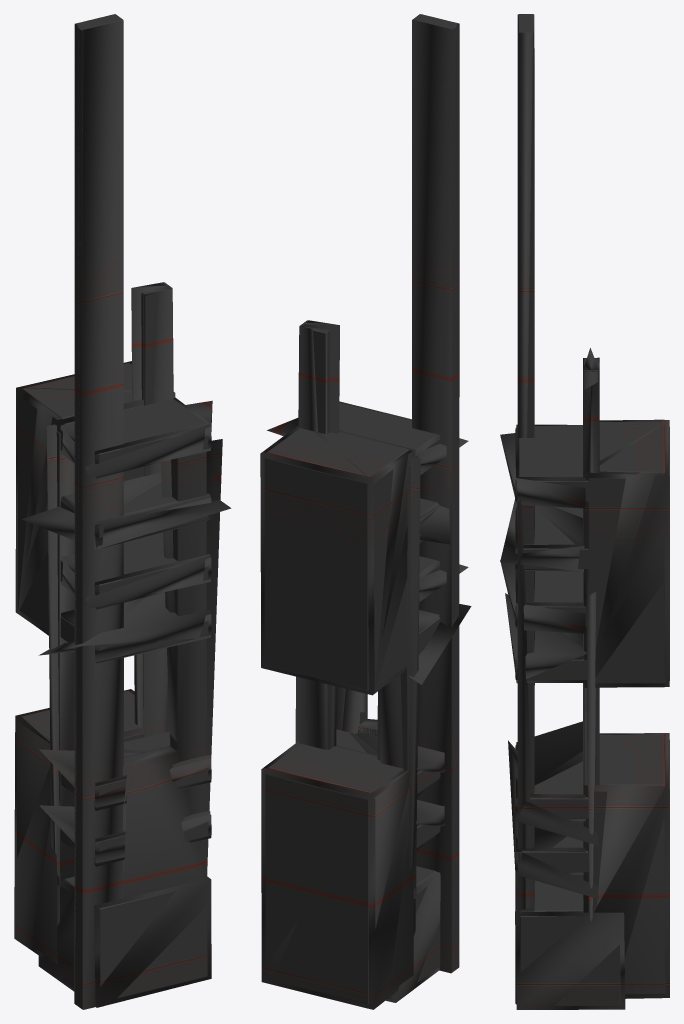
The model's file is sm_skyscraper_module13.glb.
The picture shows the model from 3 angles, left to right: view 1: azimuth 30°, elevation 25°; view 2: azimuth 150°, elevation 25°; view 3: azimuth 270°, elevation 25°; orthographic projection. The views are drawn at different scales.
Parts seen in each view (by area): view 1: sm_skyscraper_module13_00; view 2: sm_skyscraper_module13_00; view 3: sm_skyscraper_module13_00.
Part boxes in pixels (x1=…): sm_skyscraper_module13_00: x1=14, y1=14, x2=231, y2=1009; sm_skyscraper_module13_00: x1=260, y1=14, x2=471, y2=1009; sm_skyscraper_module13_00: x1=500, y1=14, x2=669, y2=1009.
Size of the model in its own units: 2.36 by 11.55 by 1.9.
1 material, 1 textured.
